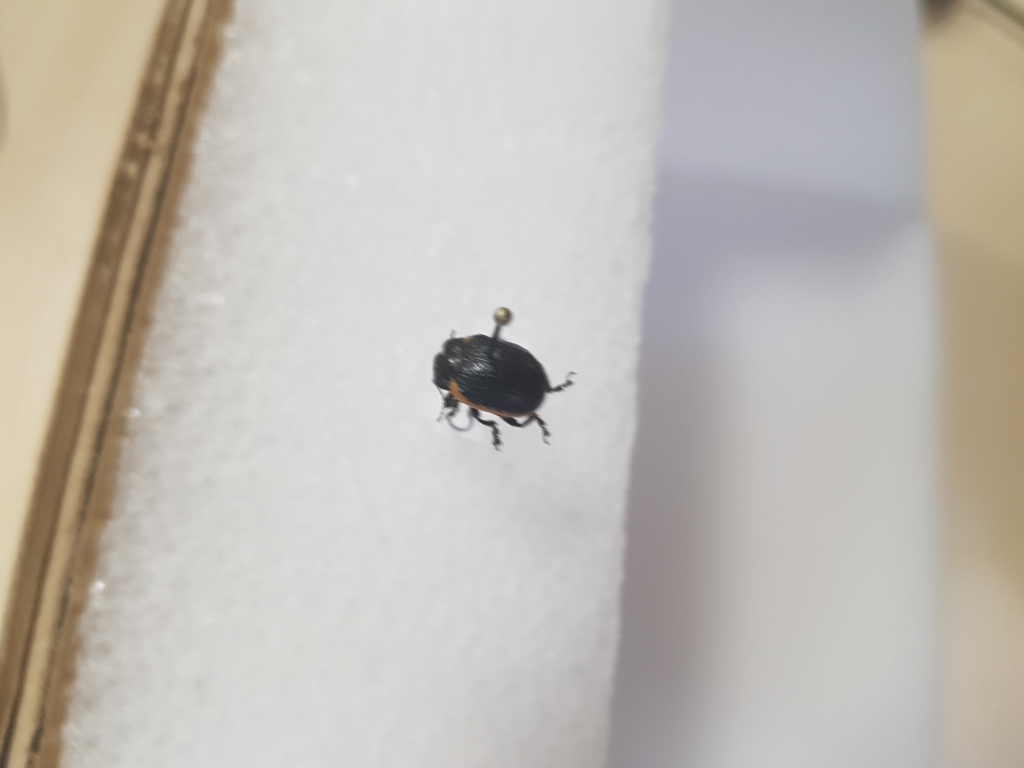Chrysolina_gypsophila: (424, 327, 589, 458)
